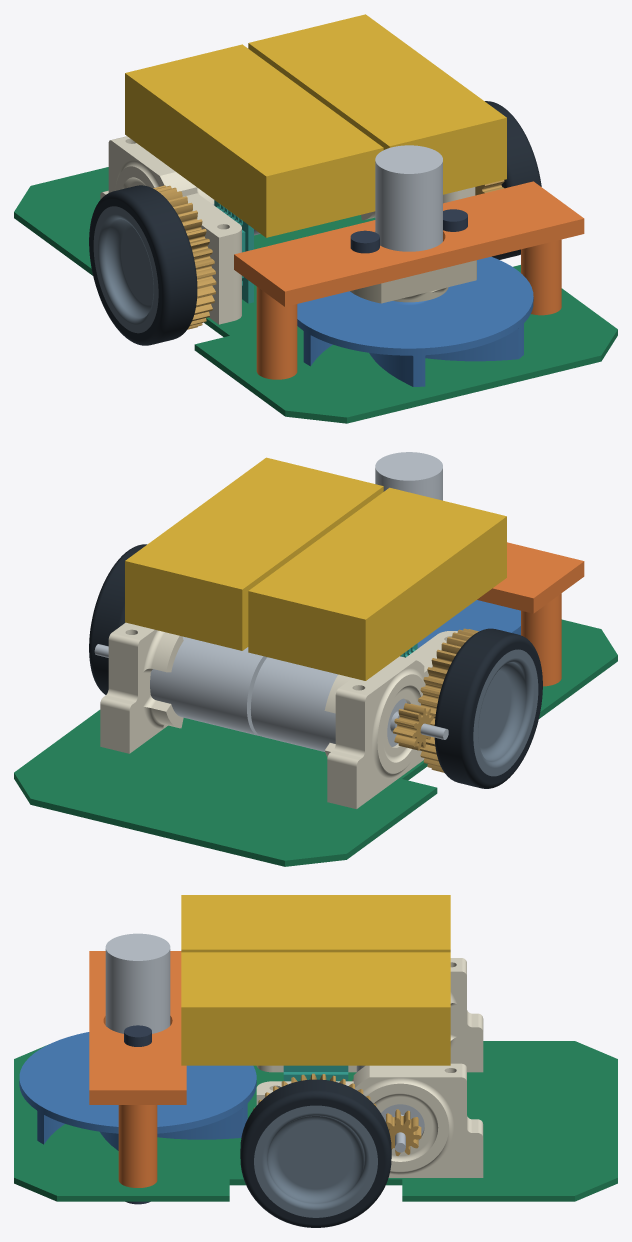
File: assembly-a05.glb
3 renders of one model, top to bottom at view 1: azimuth 30°, elevation 25°; view 2: azimuth 150°, elevation 25°; view 3: azimuth 270°, elevation 25°, orthographic. The views are drawn at different scales.
Parts seen in each view (by area): view 1: 064_battery, 063_pcb, fan_bridge, 065_battery, 062_fan, 003_tire, 060_fan_motor, 027_mount, 002_wheel, 061_fan_mount, 004_gear, 033_tire (+2 smaller); view 2: 063_pcb, 064_battery, 065_battery, 027_mount, 003_tire, 059_mount, 030_motor, 000_motor, fan_bridge, 002_wheel, 033_tire, 060_fan_motor (+3 smaller); view 3: 063_pcb, 065_battery, 064_battery, 062_fan, fan_bridge, 032_wheel, 059_mount, 033_tire, 060_fan_motor, 027_mount, 031_gear, 030_motor (+3 smaller).
Boxes of the visible parts, left/top/right/bottom form: 064_battery: left=125, top=44, right=383, bottom=237; 063_pcb: left=14, top=167, right=617, bottom=423; fan_bridge: left=234, top=181, right=584, bottom=379; 065_battery: left=248, top=14, right=506, bottom=194; 062_fan: left=297, top=256, right=533, bottom=386; 003_tire: left=89, top=185, right=197, bottom=345; 060_fan_motor: left=375, top=145, right=442, bottom=251; 027_mount: left=100, top=136, right=241, bottom=324; 002_wheel: left=93, top=206, right=158, bottom=333; 061_fan_mount: left=350, top=260, right=476, bottom=303; 004_gear: left=153, top=185, right=216, bottom=329; 033_tire: left=485, top=101, right=541, bottom=259; 063_pcb: left=14, top=619, right=617, bottom=866; 064_battery: left=248, top=487, right=506, bottom=680; 065_battery: left=125, top=457, right=383, bottom=650; 027_mount: left=324, top=631, right=457, bottom=809; 003_tire: left=434, top=628, right=542, bottom=788; 059_mount: left=100, top=622, right=183, bottom=753; 030_motor: left=94, top=636, right=267, bottom=736; 000_motor: left=250, top=657, right=448, bottom=751; fan_bridge: left=477, top=542, right=584, bottom=686; 002_wheel: left=473, top=649, right=538, bottom=776; 033_tire: left=89, top=544, right=146, bottom=694; 060_fan_motor: left=375, top=452, right=442, bottom=500; 063_pcb: left=14, top=1041, right=617, bottom=1201; 065_battery: left=181, top=952, right=450, bottom=1065; 064_battery: left=181, top=895, right=450, bottom=952; 062_fan: left=19, top=1032, right=256, bottom=1150; fan_bridge: left=89, top=951, right=186, bottom=1187; 032_wheel: left=254, top=1105, right=377, bottom=1217; 059_mount: left=256, top=1063, right=483, bottom=1177; 033_tire: left=240, top=1079, right=391, bottom=1227; 060_fan_motor: left=105, top=933, right=170, bottom=1033; 027_mount: left=257, top=958, right=483, bottom=1072; 031_gear: left=386, top=1109, right=421, bottom=1155; 030_motor: left=356, top=1065, right=424, bottom=1152.
Size of the model in its own units: 38.8 by 19.88 by 56.
